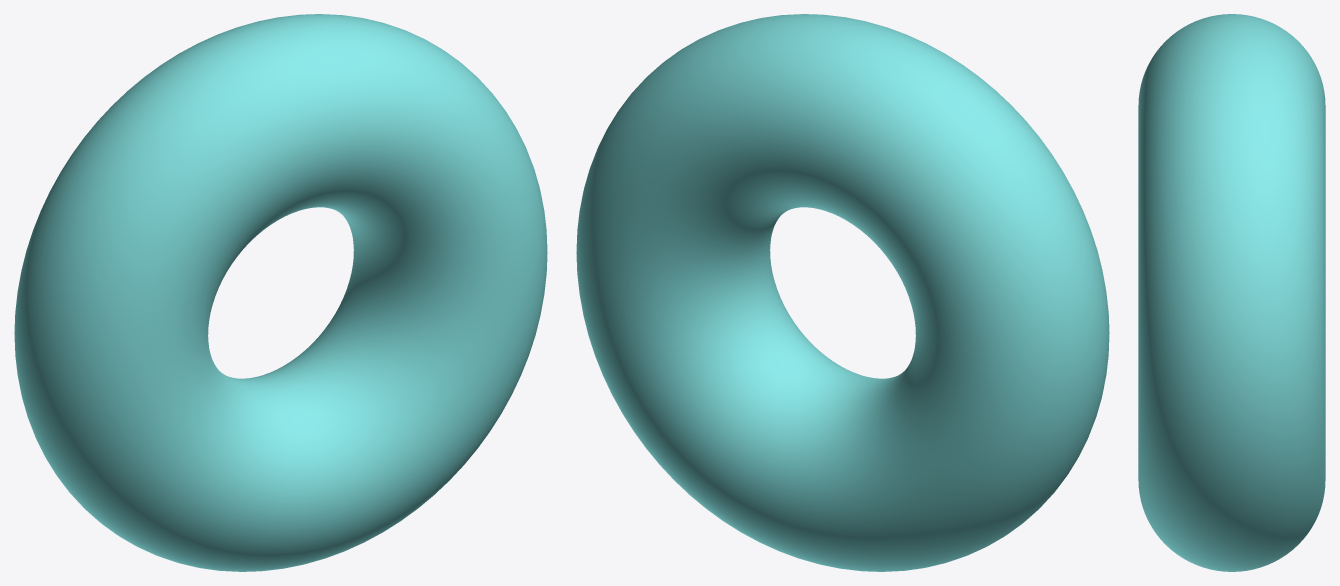
File: DonutC_L.fbx
The picture shows the model from 3 angles, left to right: view 1: azimuth 30°, elevation 25°; view 2: azimuth 150°, elevation 25°; view 3: azimuth 270°, elevation 25°; orthographic projection. The views are drawn at different scales.
Visible parts, largest first — view 1: pTorus1; view 2: pTorus1; view 3: pTorus1.
Part boxes in pixels (bbox=[...]): pTorus1: bbox=[14, 14, 547, 571]; pTorus1: bbox=[576, 14, 1109, 571]; pTorus1: bbox=[1138, 14, 1325, 571].
Size of the model in its own units: 1.47 by 1.47 by 0.4924.
